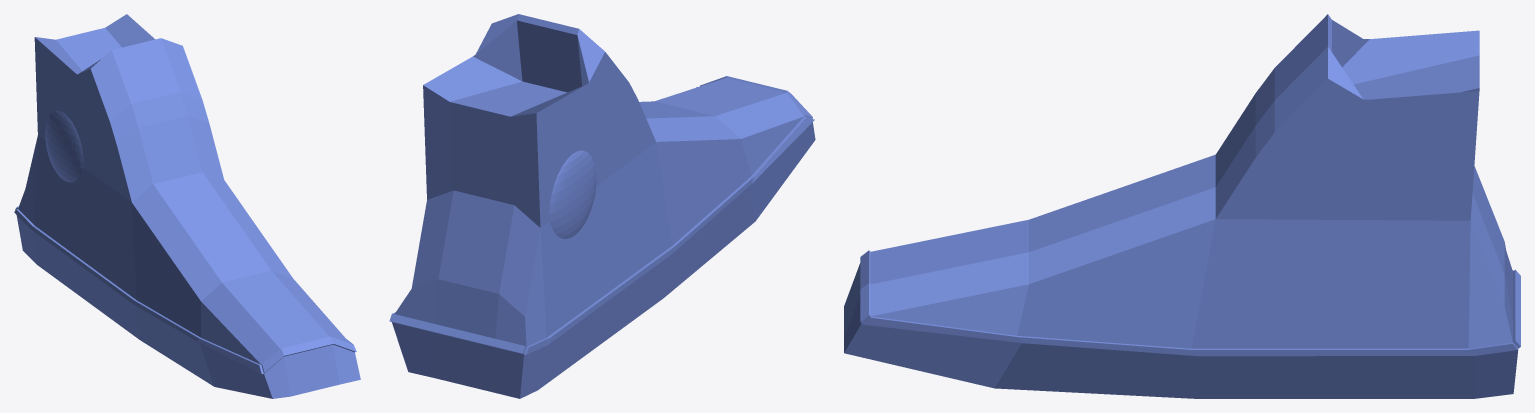
File: UVconverse.fbx
3 views of the same model, side by side, from view 1: azimuth 30°, elevation 25°; view 2: azimuth 150°, elevation 25°; view 3: azimuth 270°, elevation 25° (orthographic). The views are drawn at different scales.
Parts seen in each view (by area): view 1: Cube; view 2: Cube; view 3: Cube.
Boxes of the visible parts, left/top/right/bottom form: Cube: left=14, top=14, right=360, bottom=398; Cube: left=389, top=14, right=815, bottom=398; Cube: left=844, top=14, right=1520, bottom=398.
Size of the model in its own units: 126 by 270 by 489.
